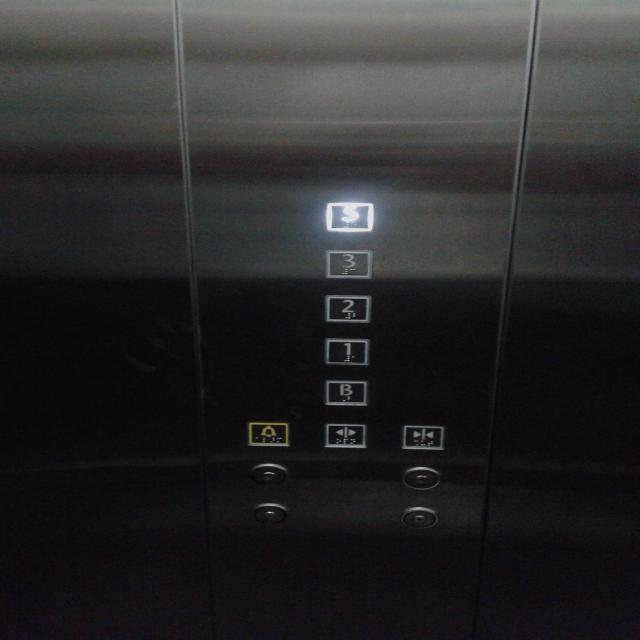1: (321, 337, 371, 368)
2: (322, 294, 373, 324)
3: (321, 248, 376, 280)
5: (322, 201, 376, 233)
B: (323, 379, 369, 407)
alarm: (245, 420, 291, 448)
close: (402, 424, 444, 450)
indicator: (247, 502, 291, 526), (397, 506, 441, 530), (400, 466, 442, 491), (249, 462, 290, 487)
open: (322, 422, 368, 450)
